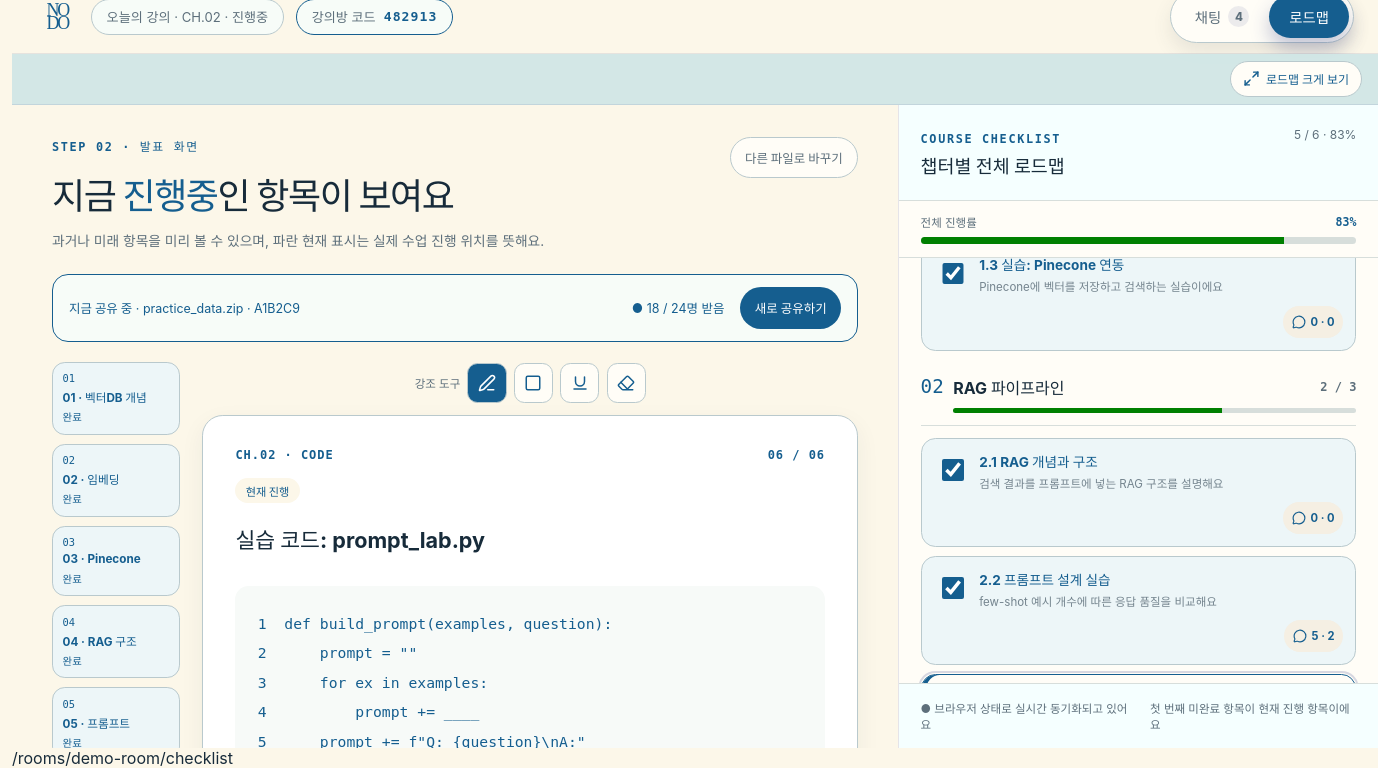
Scenario: NoDo 00-7 demo course flow › 현재 항목을 체크하면 다음 미완료 항목과 자료 화면이 자동으로 이동한다
(page scrolled)
Click the checkbox named "RAG 개념과 구조 완료".
click(953, 470)  # box [942,459,964,481]
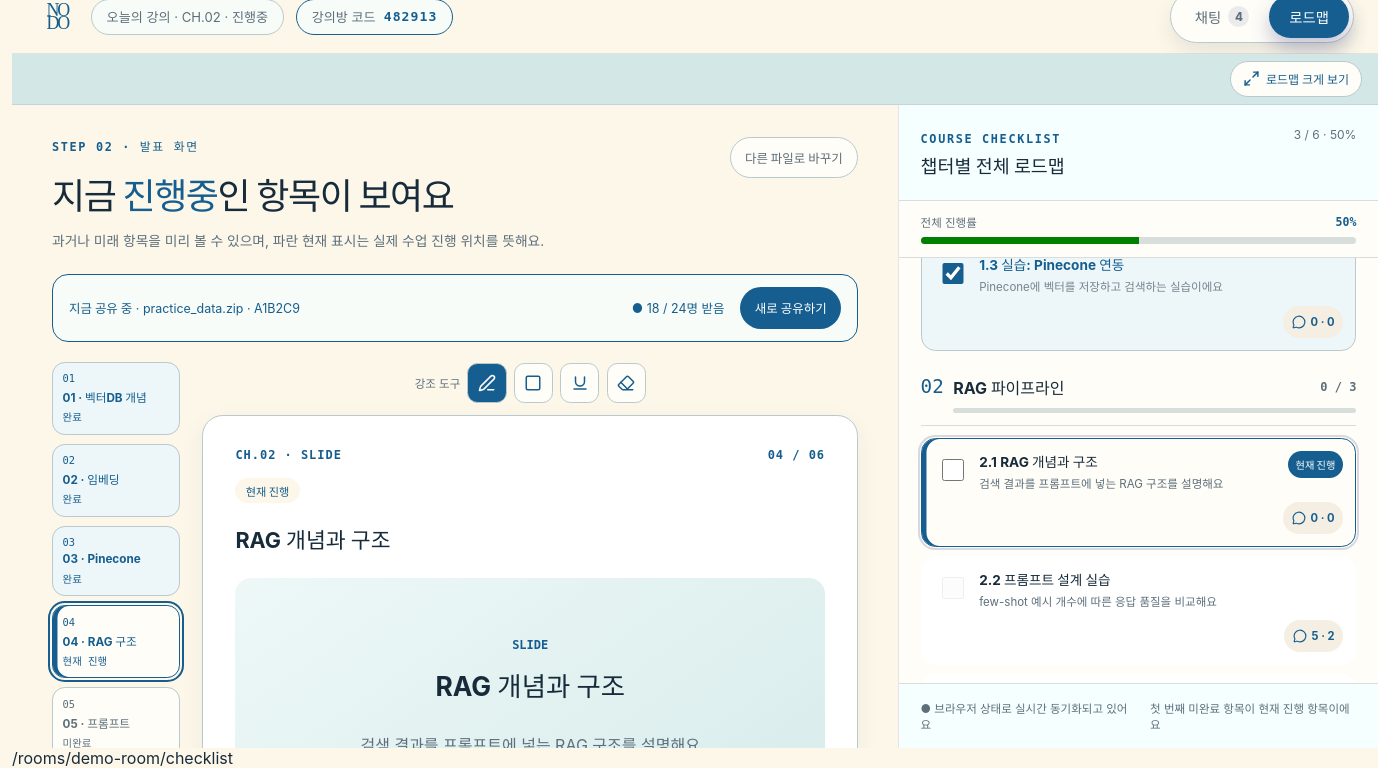
Click the checkbox named "RAG 개념과 구조 완료".
click(953, 470)  # box [942,459,964,481]
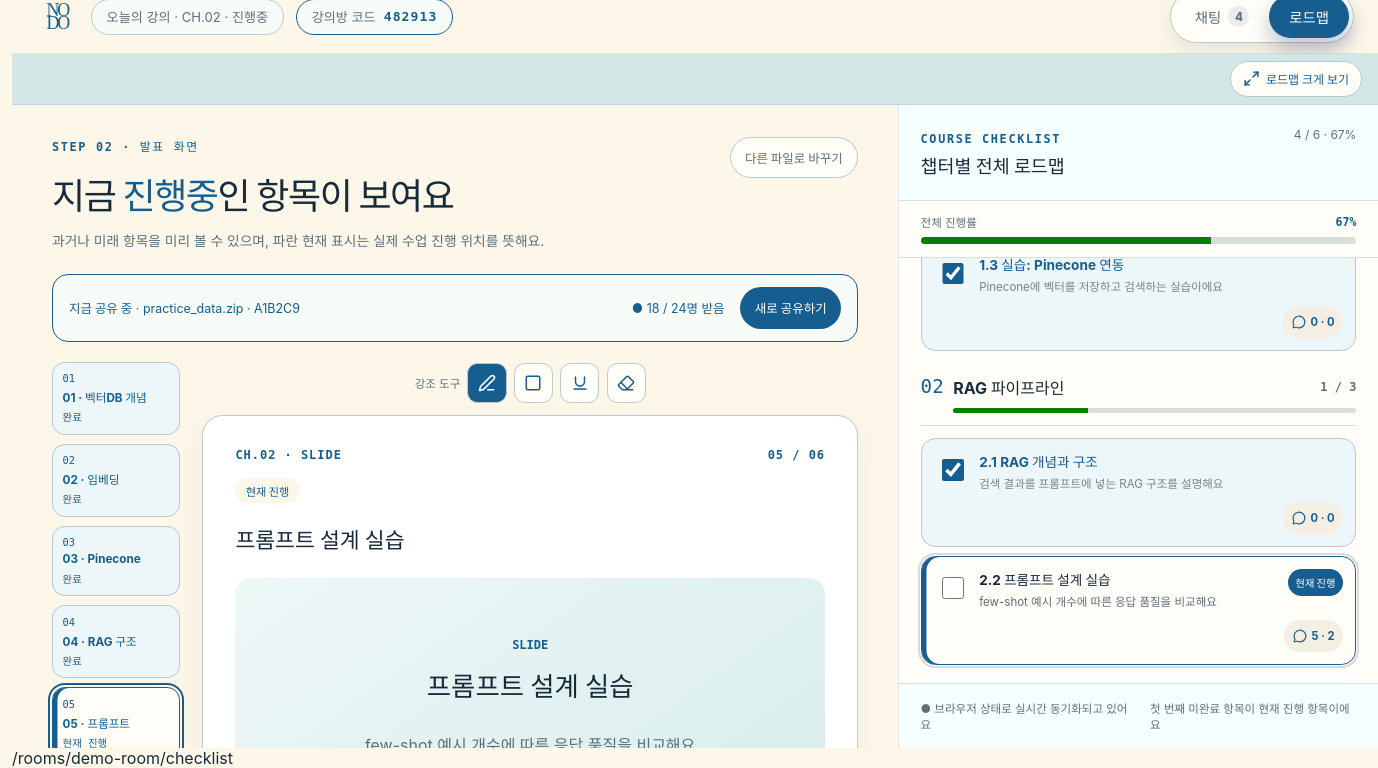
Expected: the text "현재 진행" below "강조 도구" is shown, [246,485,289,499]
Now the checkbox named "프롬프트 설계 실습 완료" is enabled, box [942,577,964,599]
Now the heading "프롬프트 설계 실습" is shown, box [235,527,405,553]
